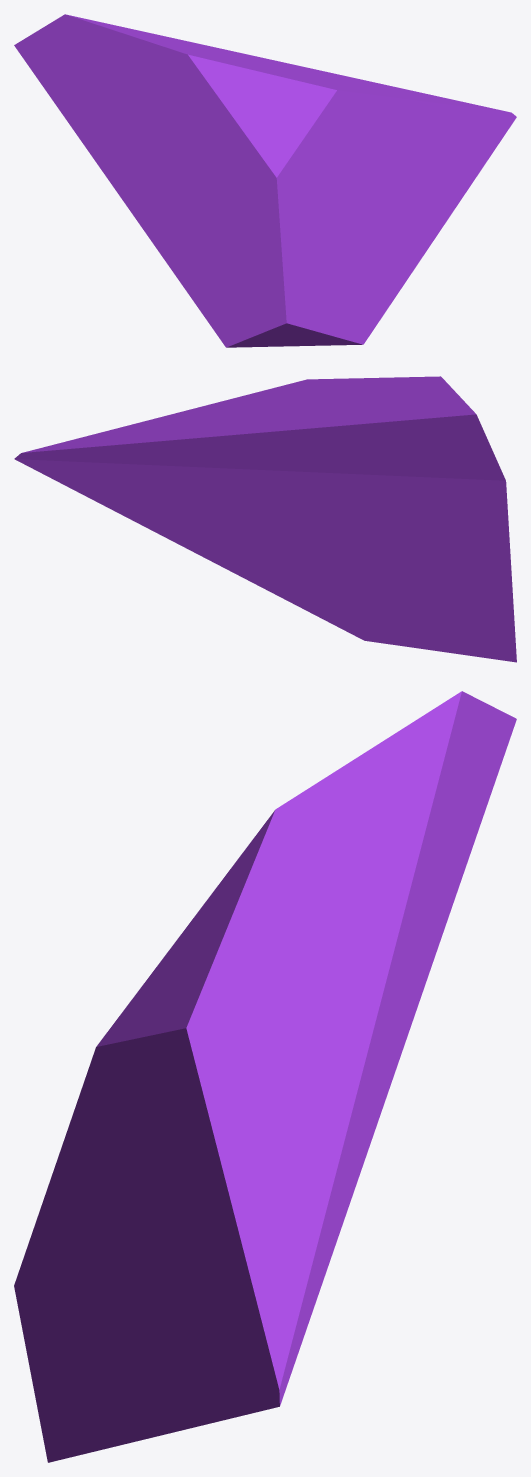
Rendered from Window_129_5_chunks.fbx.
3 views of the same model, one above another, from view 1: azimuth 30°, elevation 25°; view 2: azimuth 150°, elevation 25°; view 3: azimuth 270°, elevation 25° (orthographic). The views are drawn at different scales.
Parts seen in each view (by area): view 1: Window_129_5_0; view 2: Window_129_5_0; view 3: Window_129_5_0.
Boxes of the visible parts, x1,y1,x2,y2 form: Window_129_5_0: (14, 14, 516, 347); Window_129_5_0: (14, 376, 516, 662); Window_129_5_0: (14, 691, 516, 1462).
Bounding box in the file's own units: 372 × 241 × 187.
